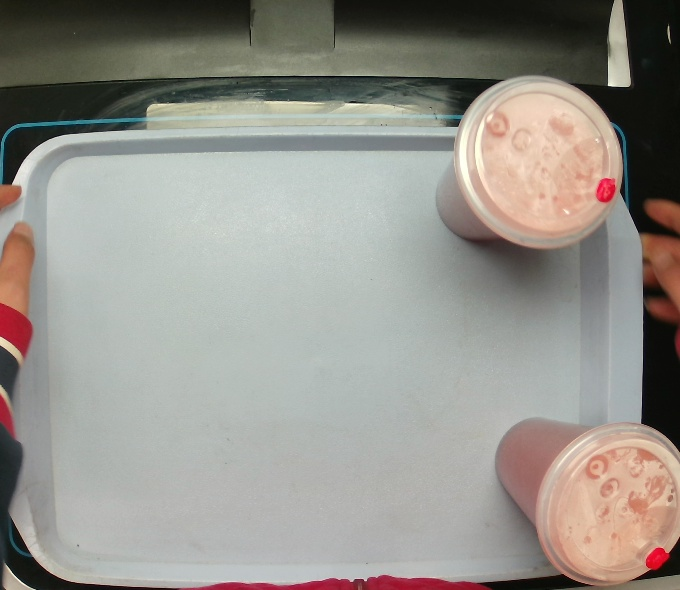wcq-XiGuaZhi: (434, 72, 624, 251), (490, 413, 680, 587)
